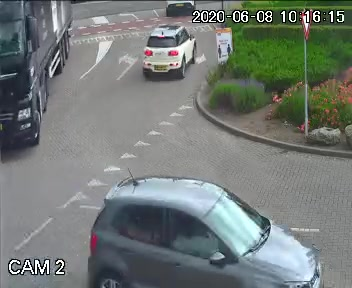car: (79, 164, 325, 288), (0, 0, 91, 151), (140, 18, 202, 86), (161, 0, 199, 16)
